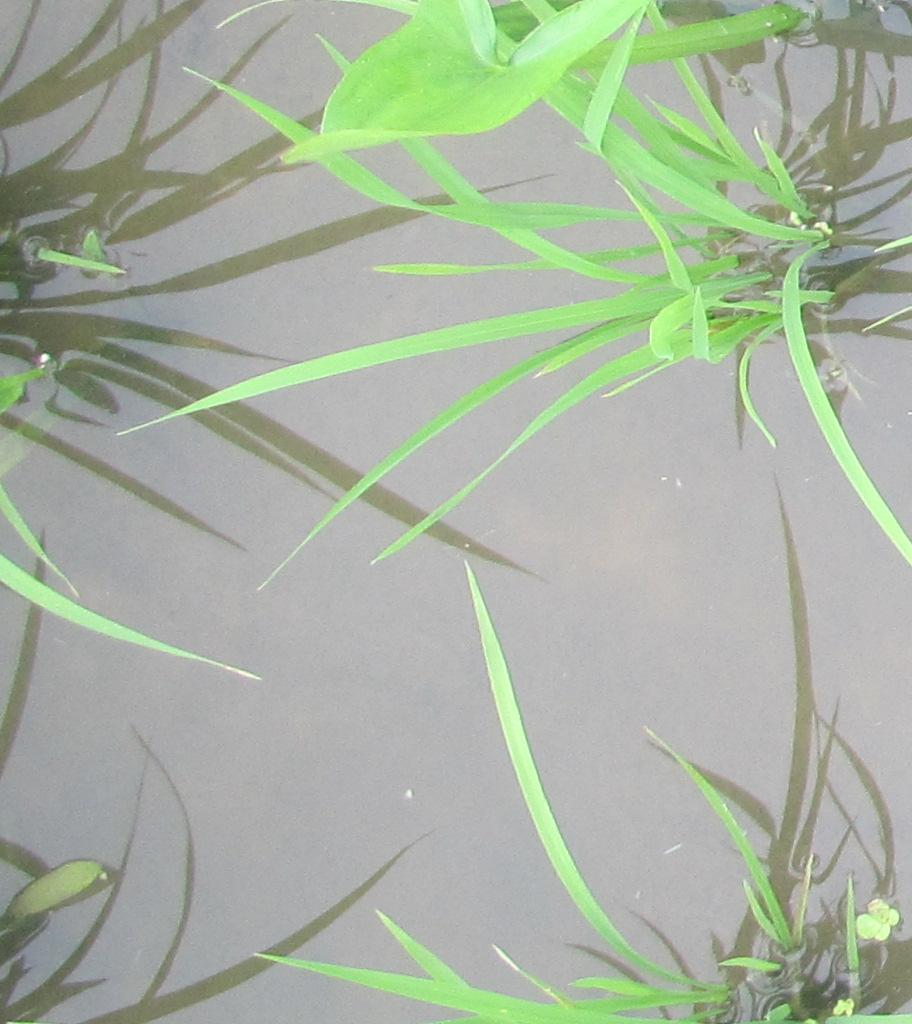Weed: (308, 2, 638, 155)
